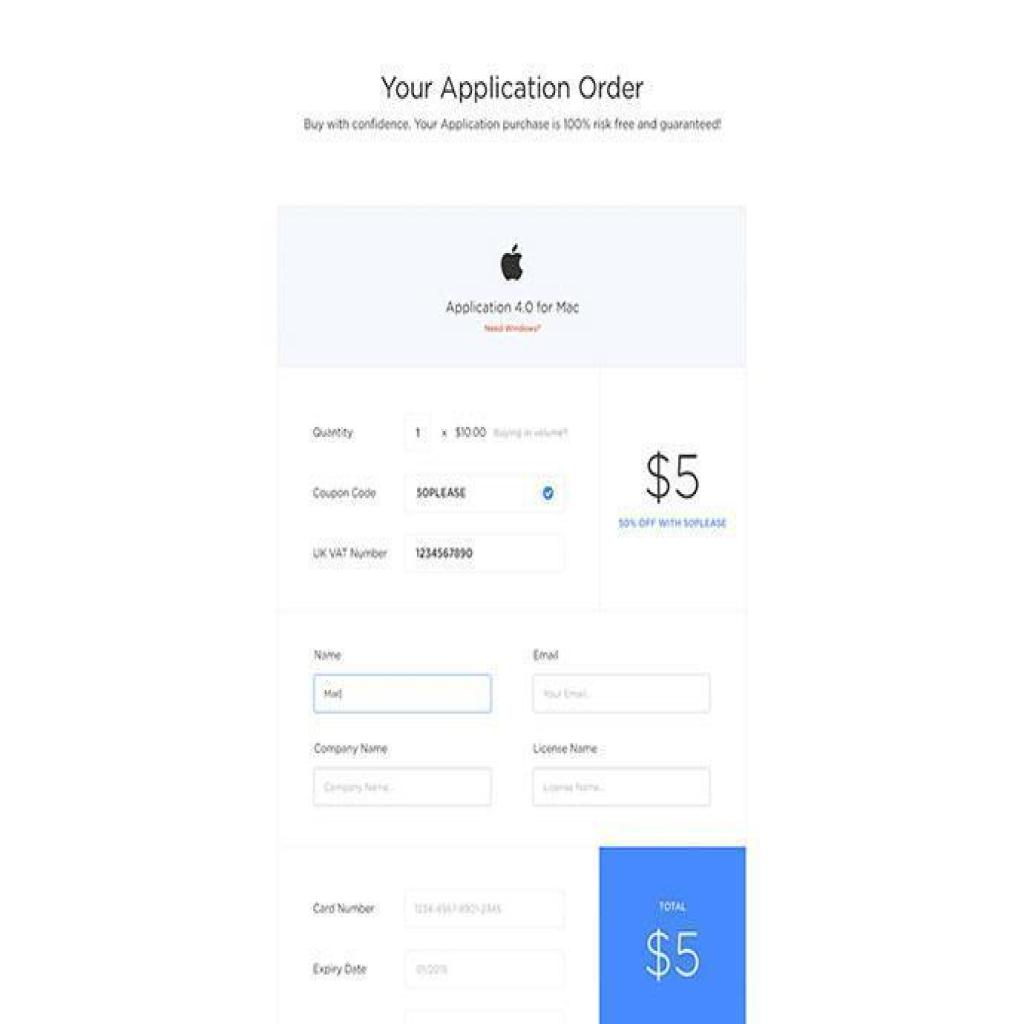input: (531, 765, 711, 807), (533, 672, 709, 714), (313, 674, 493, 714), (313, 767, 491, 807), (406, 472, 562, 516), (402, 886, 564, 927), (405, 534, 566, 575), (404, 947, 562, 986), (405, 411, 432, 449)
label: (372, 71, 648, 105), (442, 293, 580, 316), (312, 480, 377, 506), (310, 739, 390, 757), (531, 739, 598, 759), (308, 959, 370, 980), (312, 546, 390, 560), (313, 900, 379, 916), (313, 423, 356, 443), (530, 646, 562, 664), (313, 648, 343, 664)
